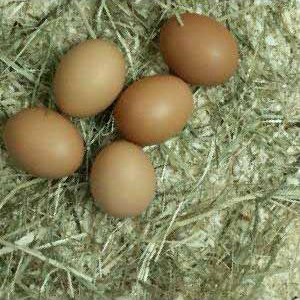egg: (2, 107, 86, 178), (54, 39, 127, 116), (160, 14, 238, 85), (115, 74, 193, 143), (89, 143, 156, 216)
